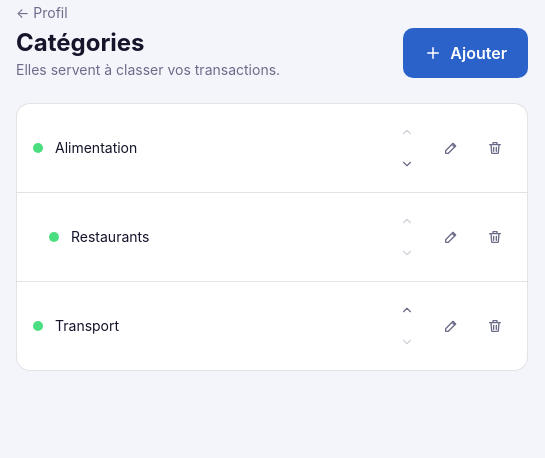
CategoriesPage — réordonnancement › affiche l'erreur si l'écriture échoue
Click the button named "Descendre Alimentation" at (407, 164), box [391,148,423,180]
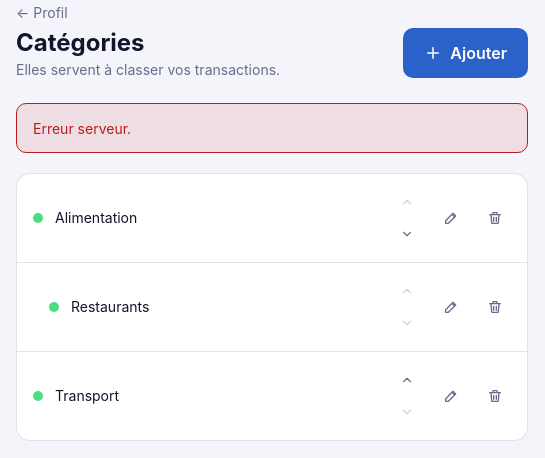
Result: the message "Erreur serveur." is shown at [16,102,528,152]
